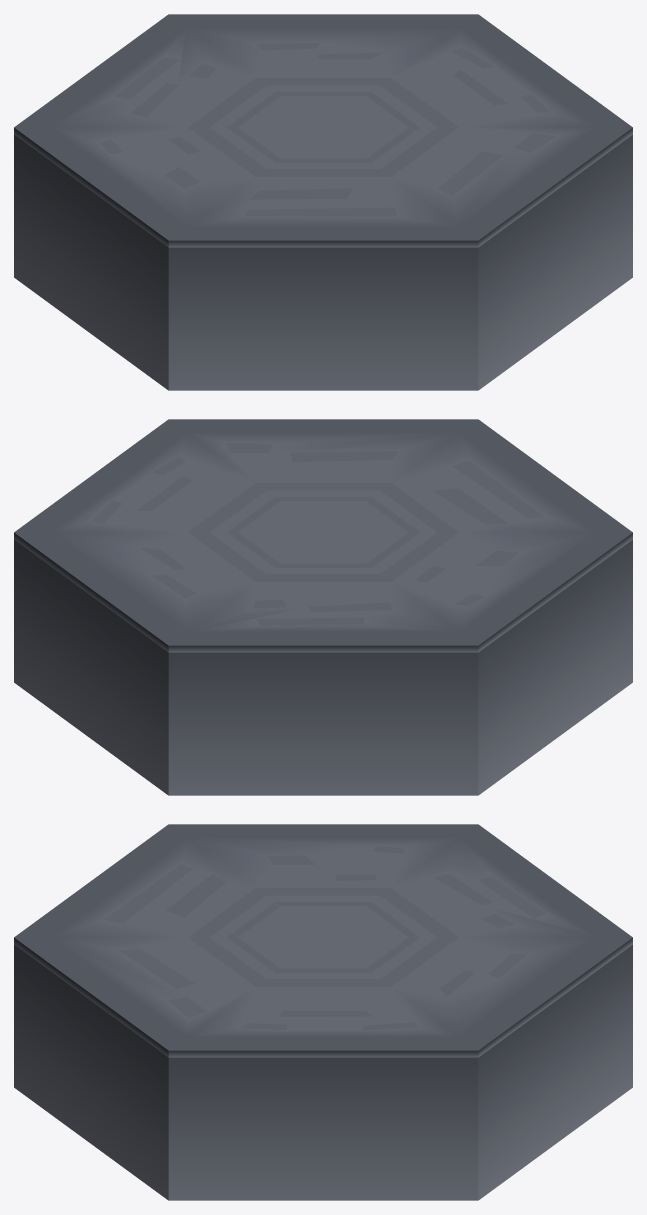
The model's file is Grade_9_1.fbx.
3 renders of one model, top to bottom at view 1: azimuth 30°, elevation 25°; view 2: azimuth 150°, elevation 25°; view 3: azimuth 270°, elevation 25°, orthographic.
Visible parts, largest first — view 1: Cylinder.011; view 2: Cylinder.011; view 3: Cylinder.011.
Boxes of the visible parts, x1,y1,x2,y2 form: Cylinder.011: [14, 14, 632, 390]; Cylinder.011: [14, 419, 632, 795]; Cylinder.011: [14, 824, 632, 1200].
Bounding box in the file's own units: 1.73 × 2 × 0.5351.
